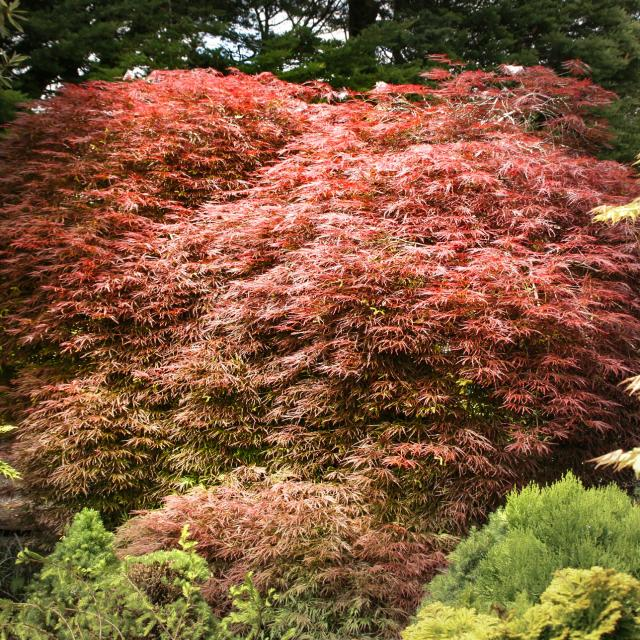Dissectum syn Atropurpurea: (17, 91, 640, 474), (140, 448, 441, 588)
